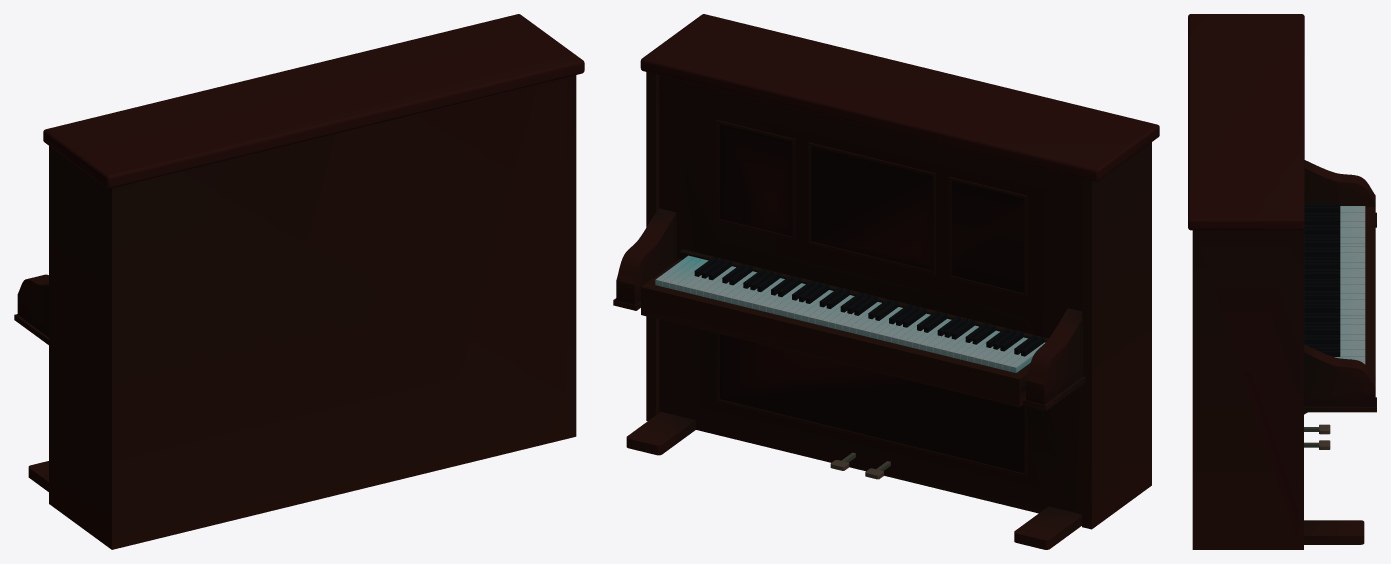
3 views of the same model, side by side, from view 1: azimuth 30°, elevation 25°; view 2: azimuth 150°, elevation 25°; view 3: azimuth 270°, elevation 25° (orthographic). The views are drawn at different scales.
Parts seen in each view (by area): view 1: case, lid, curved_end; view 2: case, lid, keybed, curved_end, curved_end.001, foot.003, foot, fallboard_rail; view 3: case, lid, curved_end.001, curved_end, keybed, foot.003, ebony.009, ebony.010, ebony.011, ebony.012, ebony.013, ebony.014 (+6 smaller).
Part boxes in pixels (x1,y1,x2,y2): case: (49, 75, 576, 549); lid: (43, 14, 584, 188); curved_end: (14, 274, 48, 344); case: (646, 71, 1151, 529); lid: (640, 14, 1159, 181); keybed: (641, 259, 1030, 407); curved_end: (1023, 308, 1085, 410); curved_end.001: (613, 208, 676, 310); foot.003: (626, 412, 695, 455); foot: (1014, 506, 1081, 549); fallboard_rail: (679, 249, 1048, 342); case: (1192, 229, 1303, 549); lid: (1188, 14, 1304, 230); curved_end.001: (1304, 344, 1376, 414); curved_end: (1304, 160, 1376, 227); keybed: (1365, 207, 1375, 379); foot.003: (1304, 520, 1364, 544); ebony.009: (1304, 228, 1340, 234); ebony.010: (1304, 250, 1340, 256); ebony.011: (1304, 272, 1340, 278); ebony.012: (1304, 294, 1340, 300); ebony.013: (1304, 316, 1340, 322); ebony.014: (1304, 338, 1340, 344).
Size of the model in its own units: 1.5 by 1.13 by 0.58.
